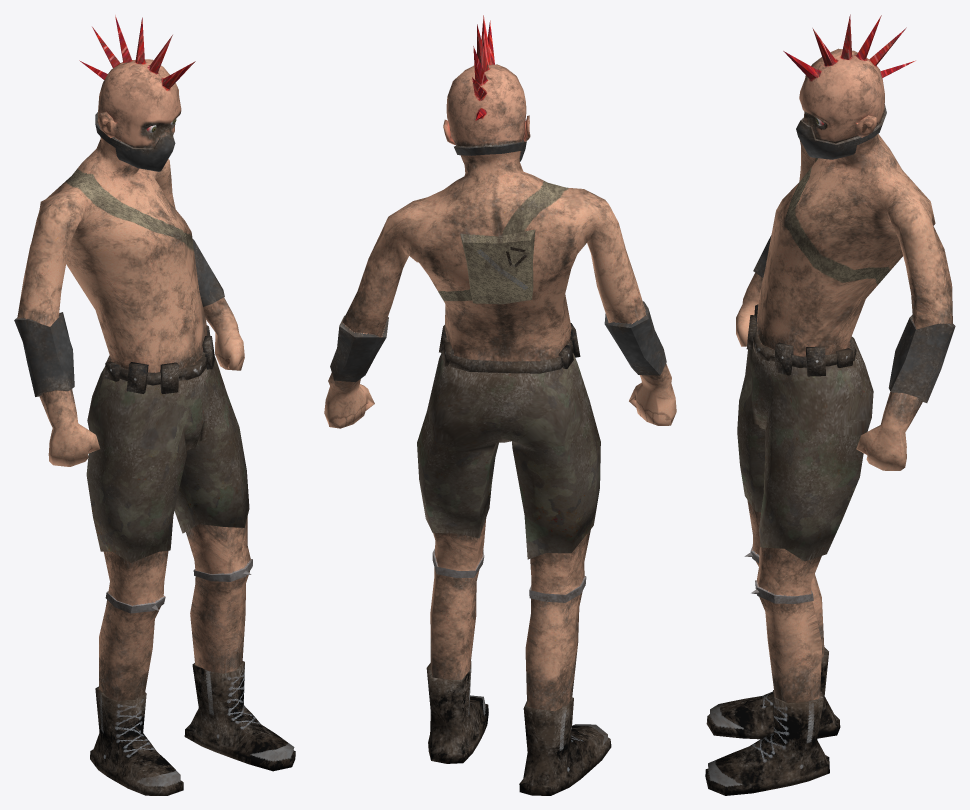
The model's file is Anim_recibirdanyo_1_npc2.0032.obj.
3 renders of one model, left to right at view 1: azimuth 30°, elevation 25°; view 2: azimuth 150°, elevation 25°; view 3: azimuth 270°, elevation 25°, orthographic. The views are drawn at different scales.
Parts seen in each view (by area): view 1: polySurface1; view 2: polySurface1; view 3: polySurface1.
Part boxes in pixels (x1,y1,x2,y2): polySurface1: (14, 15, 295, 795); polySurface1: (324, 15, 676, 795); polySurface1: (705, 14, 955, 795).
Bounding box in the file's own units: 3.83 × 10.02 × 3.07.
2 materials, 2 textured.
